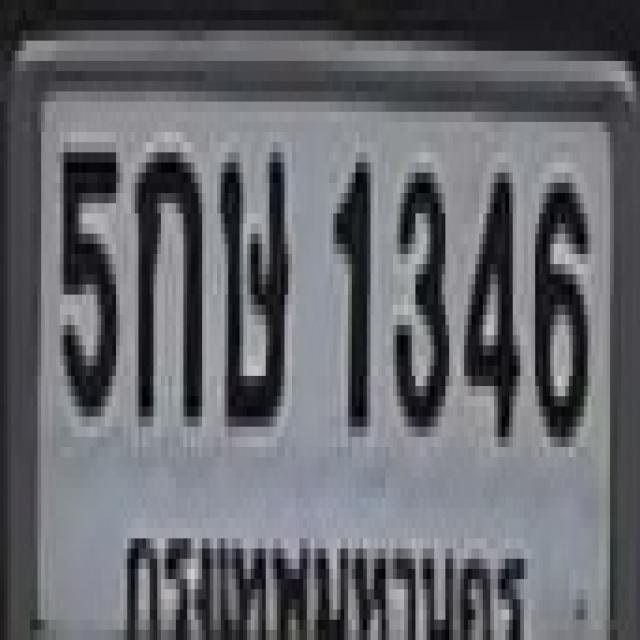-: (217, 142, 285, 417), (131, 142, 198, 417)
1: (329, 152, 367, 416)
3: (390, 162, 446, 426)
4: (461, 162, 516, 437)
5: (56, 142, 116, 406)
6: (531, 173, 584, 437)
